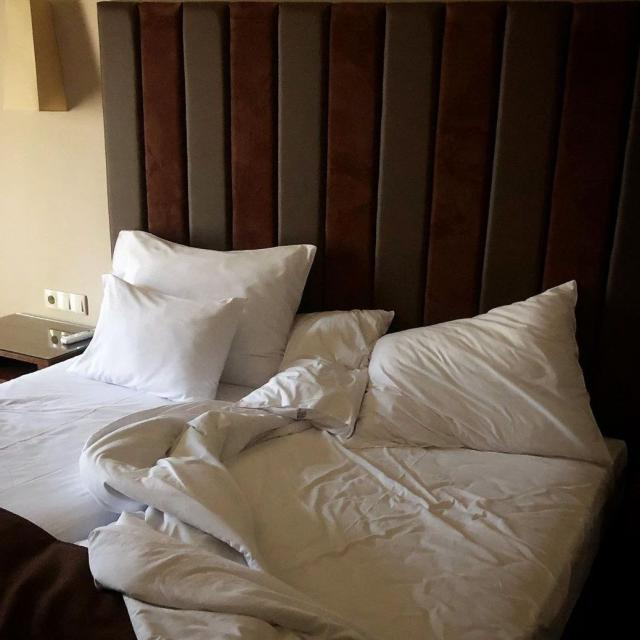bed: (0, 198, 618, 640)
